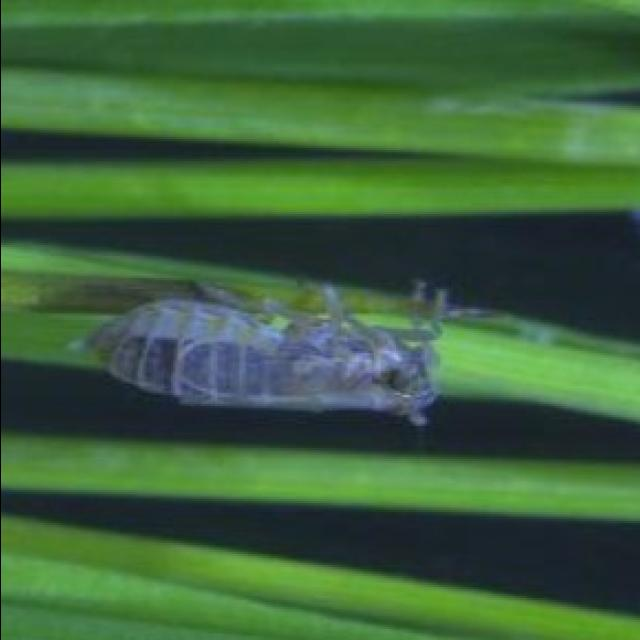brown plant hopper: (73, 280, 503, 426)
